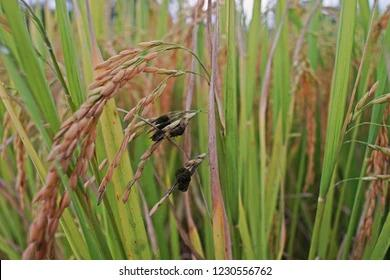False Smut: (147, 112, 190, 147), (172, 165, 196, 193)
